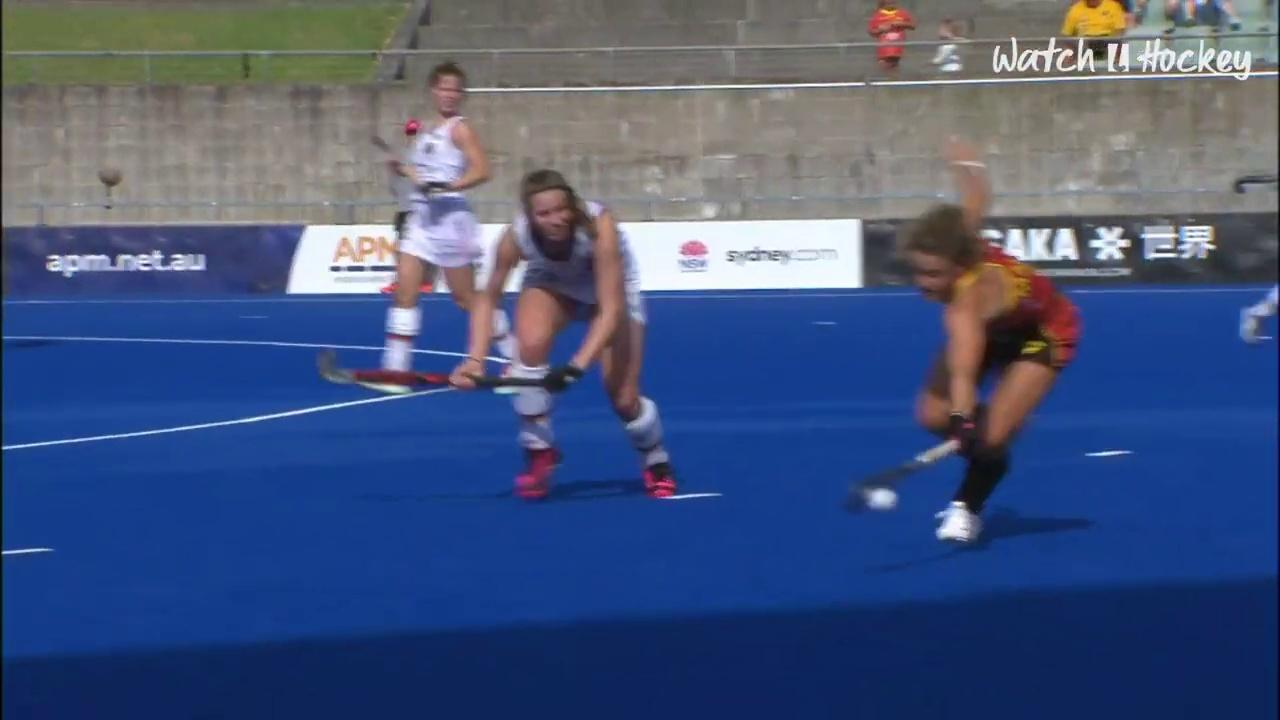ball: (844, 472, 914, 527)
